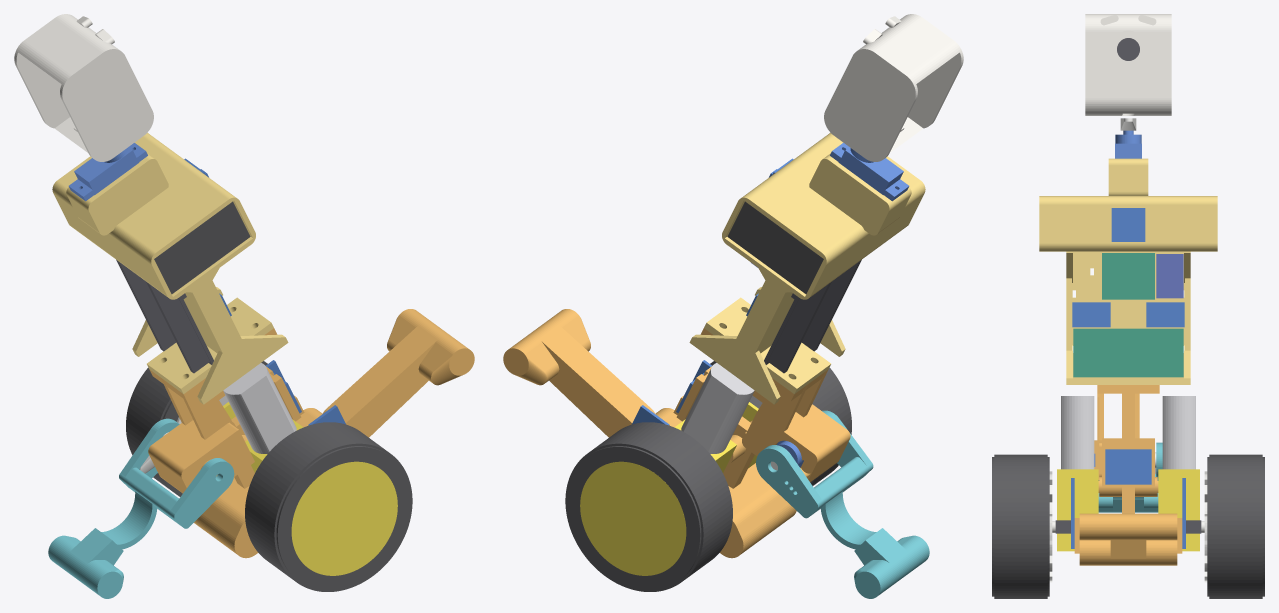
Rendered from assembled_rest.glb.
3 views of the same model, side by side, from view 1: azimuth 30°, elevation 25°; view 2: azimuth 150°, elevation 25°; view 3: azimuth 270°, elevation 25° (orthographic). The views are drawn at different scales.
Visible parts, largest first — view 1: torso, core_right, head, tyre_r, rim_r, tail, core_left, holder, tt_can_r, esp32, tyre_l, pan_servo; view 2: torso, head, core_left, tyre_l, rim_l, tail, core_right, holder, tt_can_l, esp32, pan_servo, tyre_r; view 3: torso, head, tyre_l, tyre_r, bms_2s, core_right, core_left, tt_can_l, tt_can_r, mx1508, tt_gearbox_l, tt_gearbox_r (+10 smaller).
Part boxes in pixels (x1=…): torso: x1=52, y1=133, x2=288, y2=404; core_right: x1=154, y1=328, x2=474, y2=558; head: x1=14, y1=14, x2=153, y2=161; tyre_r: x1=245, y1=422, x2=412, y2=591; rim_r: x1=291, y1=461, x2=397, y2=575; tail: x1=48, y1=418, x2=234, y2=598; core_left: x1=148, y1=309, x2=441, y2=534; holder: x1=154, y1=201, x2=250, y2=293; tt_can_r: x1=223, y1=363, x2=296, y2=453; esp32: x1=116, y1=259, x2=213, y2=373; tyre_l: x1=126, y1=361, x2=267, y2=496; pan_servo: x1=68, y1=143, x2=147, y2=201; torso: x1=689, y1=133, x2=925, y2=404; head: x1=824, y1=14, x2=963, y2=161; core_left: x1=503, y1=328, x2=823, y2=558; tyre_l: x1=565, y1=422, x2=732, y2=591; rim_l: x1=580, y1=461, x2=686, y2=575; tail: x1=756, y1=410, x2=929, y2=598; core_right: x1=536, y1=309, x2=850, y2=534; holder: x1=727, y1=201, x2=823, y2=293; tt_can_l: x1=681, y1=363, x2=754, y2=453; esp32: x1=764, y1=259, x2=861, y2=373; pan_servo: x1=830, y1=143, x2=909, y2=201; tyre_r: x1=710, y1=361, x2=851, y2=485; torso: x1=1039, y1=158, x2=1217, y2=384; head: x1=1085, y1=14, x2=1171, y2=115; tyre_l: x1=1207, y1=454, x2=1264, y2=598; tyre_r: x1=992, y1=454, x2=1049, y2=598; bms_2s: x1=1073, y1=328, x2=1183, y2=377; core_right: x1=1074, y1=385, x2=1128, y2=565; core_left: x1=1128, y1=385, x2=1182, y2=565; tt_can_l: x1=1162, y1=396, x2=1195, y2=469; tt_can_r: x1=1061, y1=396, x2=1094, y2=469; mx1508: x1=1102, y1=253, x2=1154, y2=299; tt_gearbox_l: x1=1158, y1=469, x2=1199, y2=551; tt_gearbox_r: x1=1057, y1=469, x2=1098, y2=551.
Bounding box in the file's own units: 0.1926 × 0.2492 × 0.123.
